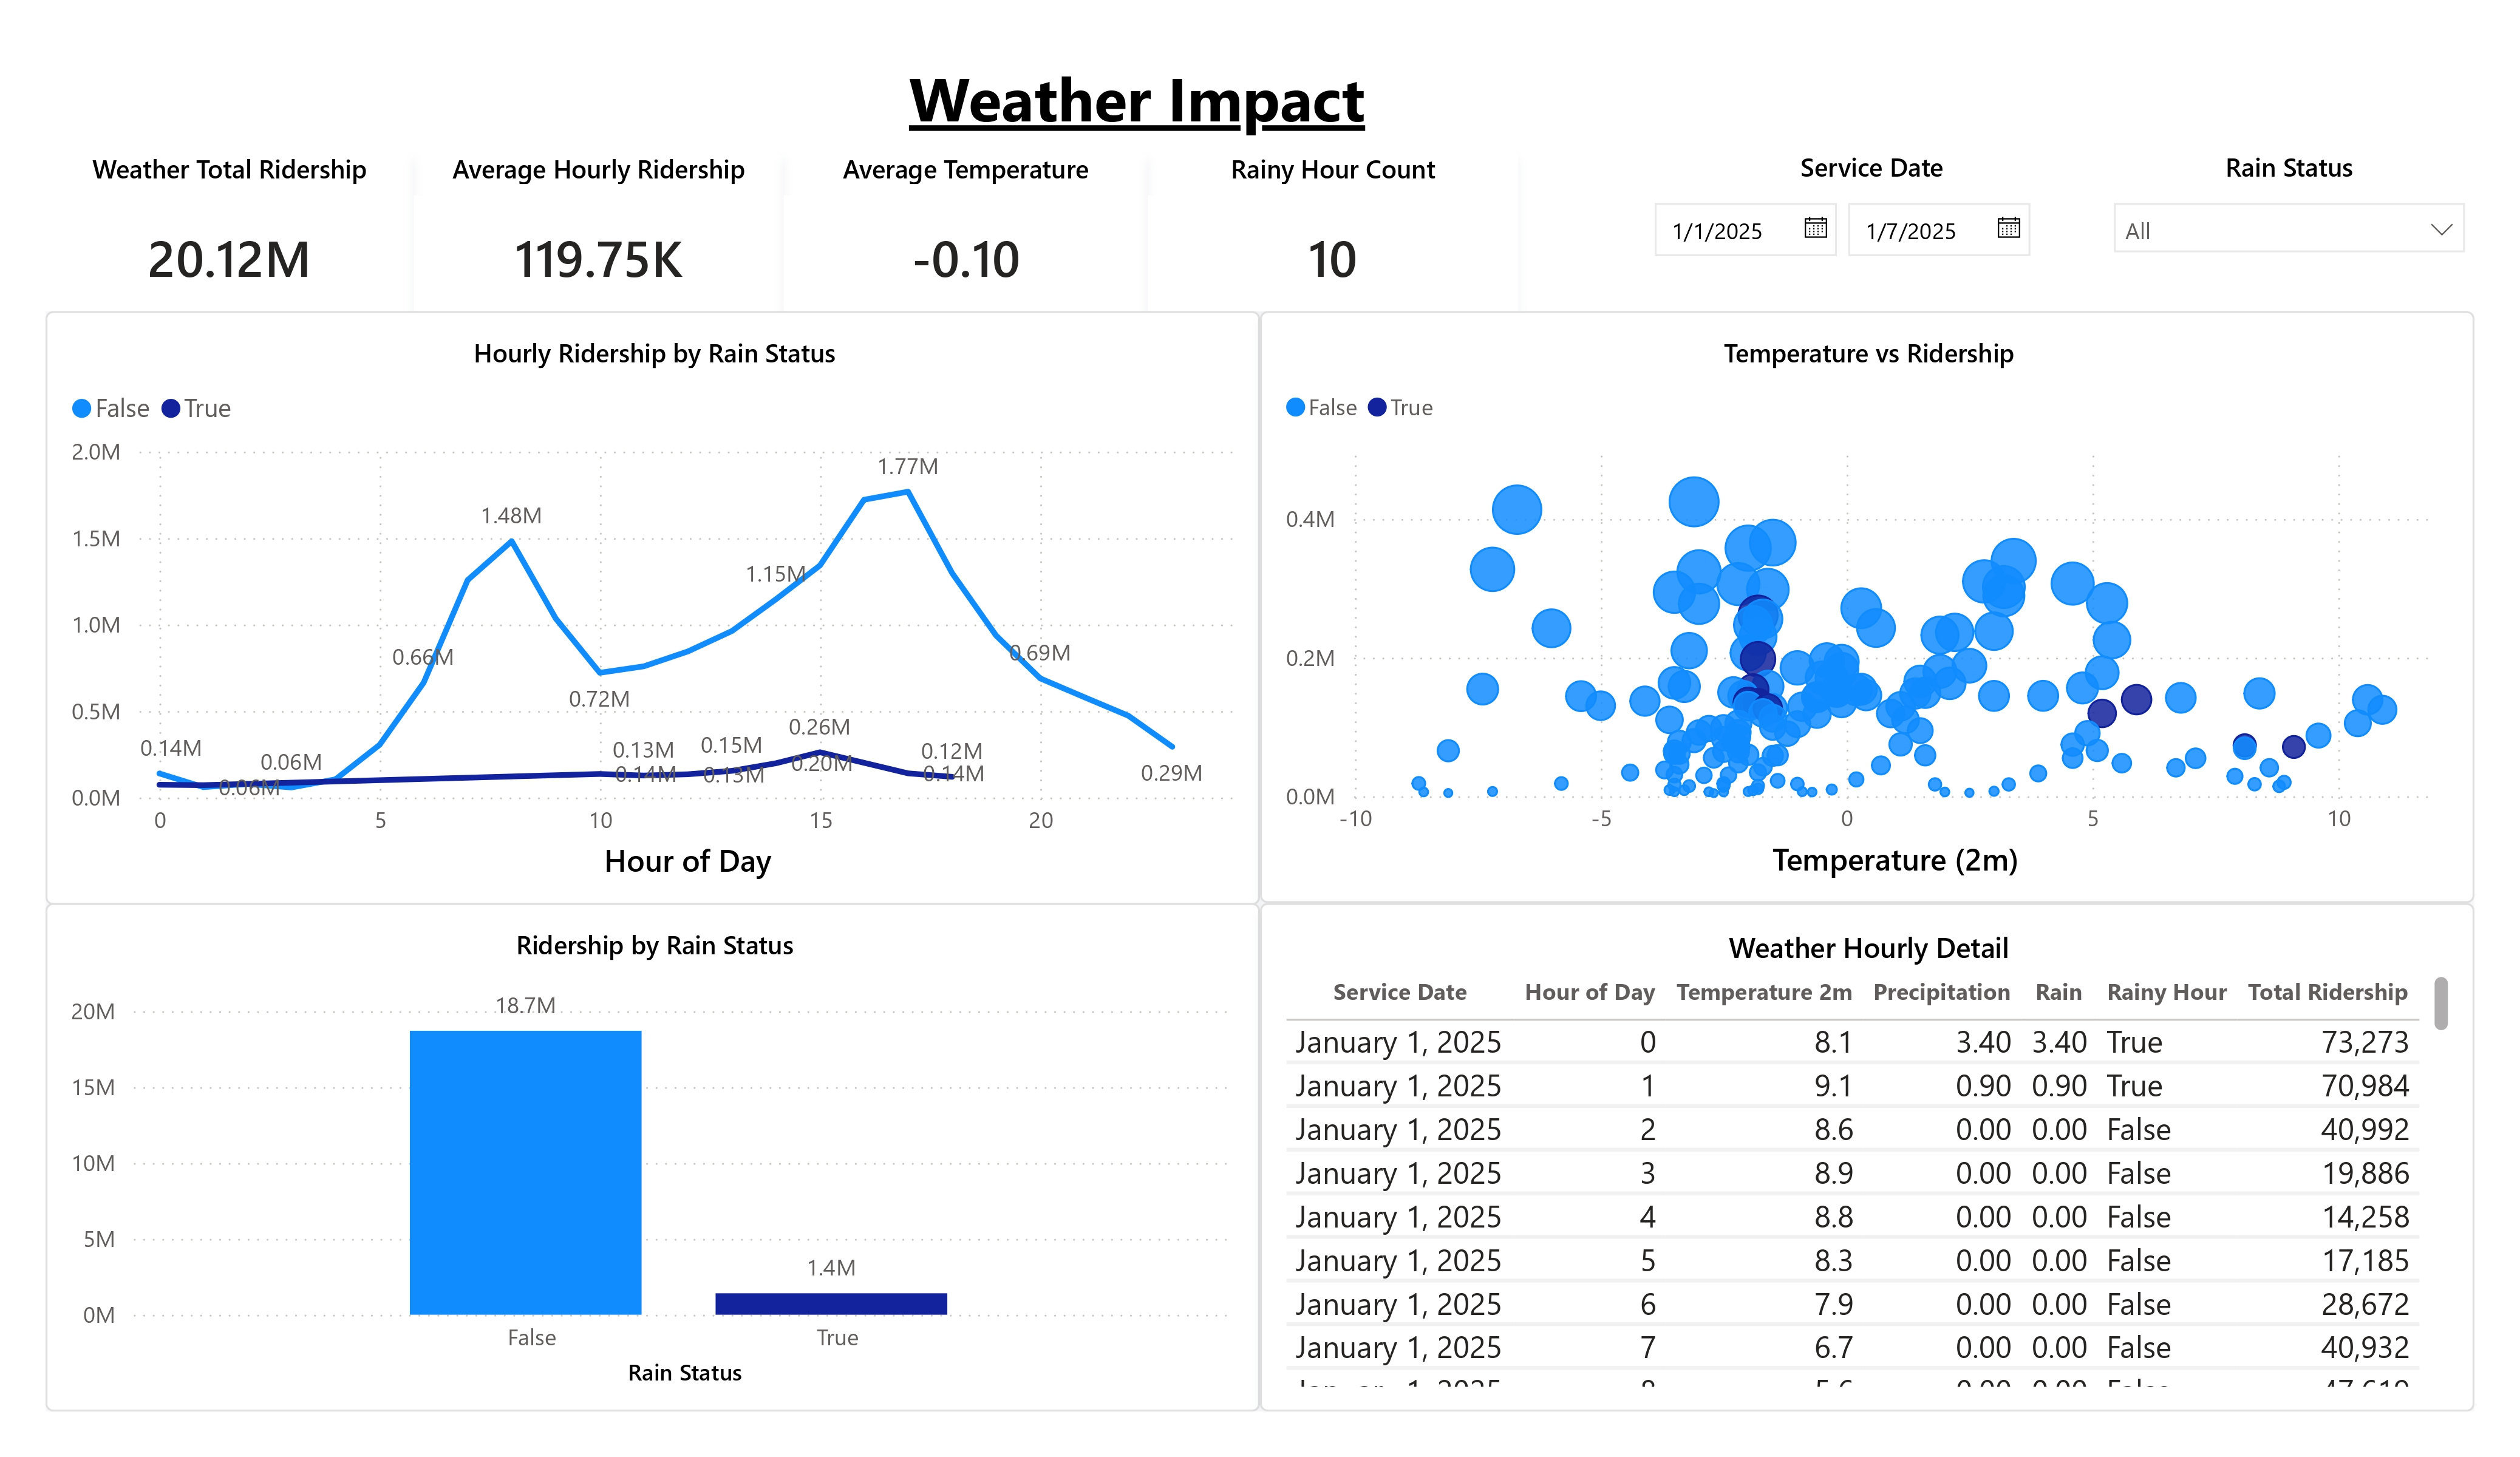

This screenshot's page, from the dashboard's own definition file:
{"tool":"powerbi","page":{"name":"Weather Impact","canvas":[1280,720],"ordinal":2},"visuals":[{"type":"textbox","box":[450,0,266,56],"z":0},{"type":"cardVisual","title":"Weather Total Ridership","fields":{"Data":["weather_ridership_impact.Weather Total Ridership"]},"box":[0,55.7,194.3,84.3],"z":1},{"type":"cardVisual","title":"Average Hourly Ridership","fields":{"Data":["weather_ridership_impact.Average Hourly Ridership"]},"box":[194.3,55.7,194.3,84.3],"z":2},{"type":"cardVisual","title":"Average Temperature","fields":{"Data":["weather_ridership_impact.Average Temperature"]},"box":[388.6,55.7,192.9,84.3],"z":3},{"type":"cardVisual","title":"Rainy Hour Count","fields":{"Data":["weather_ridership_impact.Rainy Hour Count"]},"box":[581.4,55.7,194.3,84.3],"z":4},{"type":"slicer","title":"Rain Status","fields":{"Values":["weather_ridership_impact.is_rainy_hour"]},"box":[1085,55,195,70],"z":5},{"type":"slicer","title":"Service Date","fields":{"Values":["weather_ridership_impact.service_date"]},"box":[840,55,245,70],"z":6},{"type":"lineChart","title":"Hourly Ridership by Rain Status","fields":{"Category":["weather_ridership_impact.hour_of_day"],"Y":["weather_ridership_impact.Weather Total Ridership"],"Series":["weather_ridership_impact.is_rainy_hour"]},"box":[0,140,640,312.9],"z":7},{"type":"scatterChart","title":"Temperature vs Ridership","fields":{"X":["weather_ridership_impact.temperature_2m"],"Y":["weather_ridership_impact.total_ridership"],"Series":["weather_ridership_impact.is_rainy_hour"],"Size":["Sum(weather_ridership_impact.total_ridership)1"]},"box":[640,140,640,312],"z":8},{"type":"columnChart","title":"Ridership by Rain Status","fields":{"Category":["weather_ridership_impact.is_rainy_hour"],"Y":["weather_ridership_impact.Weather Total Ridership"]},"box":[0,452,640,268],"z":9},{"type":"tableEx","title":"Weather Hourly Detail","fields":{"Values":["weather_ridership_impact.service_date","weather_ridership_impact.hour_of_day","weather_ridership_impact.temperature_2m","weather_ridership_impact.precipitation","weather_ridership_impact.rain","weather_ridership_impact.is_rainy_hour","weather_ridership_impact.total_ridership"]},"box":[640,452,640,268],"z":10}]}

Visuals, with their boxes on the page's 1280x720 design canvas (x1, y1, x2, y2). These are canvas units, not pixel positions in the 2520x1457 screenshot, which may show the page scaled, cropped or inside an application window:
textbox: 450,0,716,56
"Weather Total Ridership" cardVisual: 0,56,194,140
"Average Hourly Ridership" cardVisual: 194,56,389,140
"Average Temperature" cardVisual: 389,56,582,140
"Rainy Hour Count" cardVisual: 581,56,776,140
"Rain Status" slicer: 1085,55,1280,125
"Service Date" slicer: 840,55,1085,125
"Hourly Ridership by Rain Status" lineChart: 0,140,640,453
"Temperature vs Ridership" scatterChart: 640,140,1280,452
"Ridership by Rain Status" columnChart: 0,452,640,720
"Weather Hourly Detail" tableEx: 640,452,1280,720
